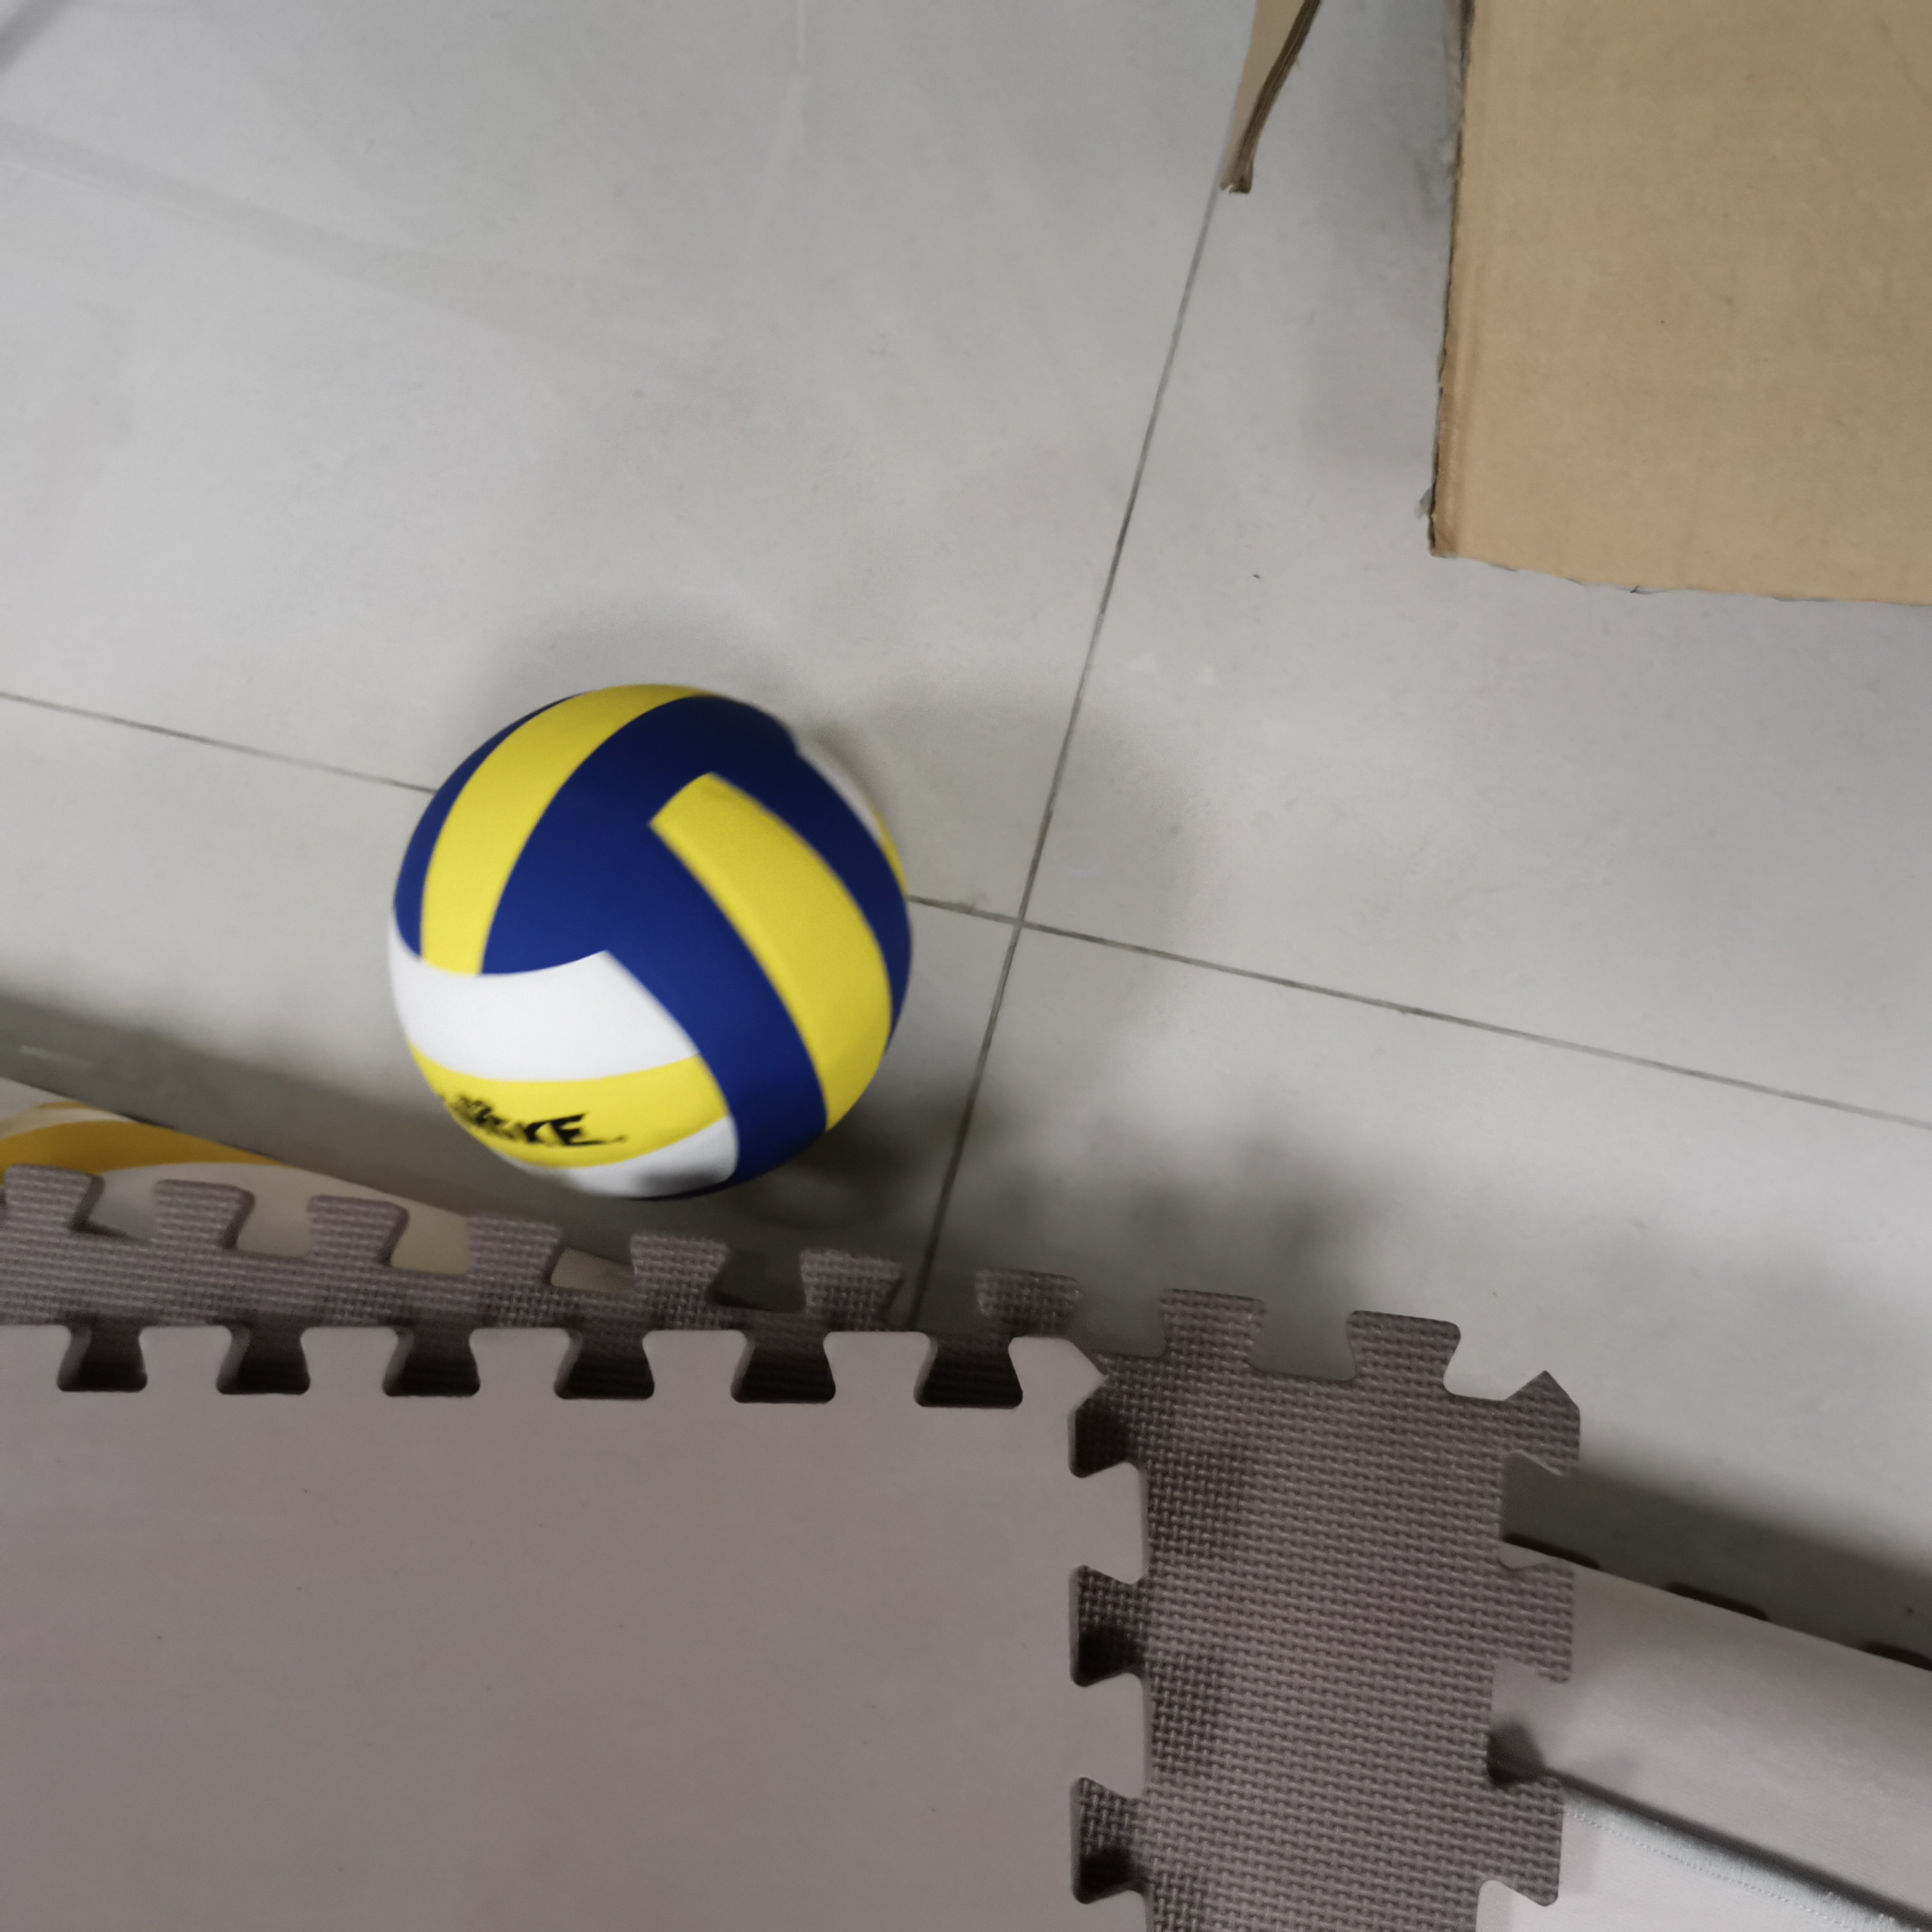volleyball: (389, 692, 904, 1191)
